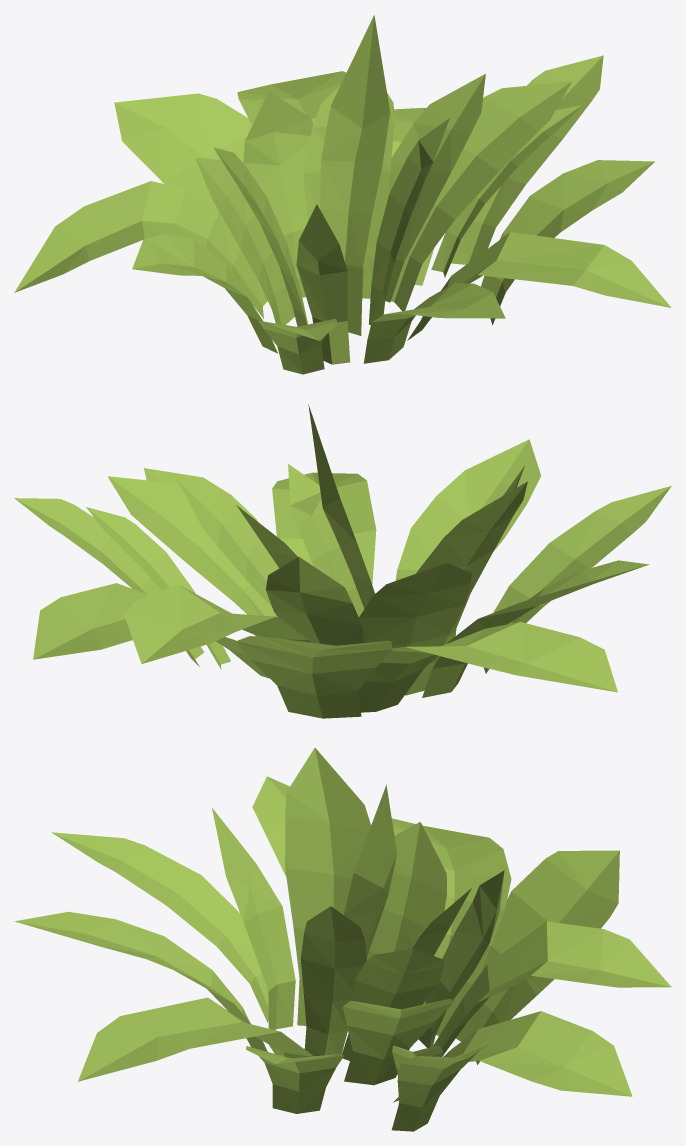
Rendered from Plant_16.fbx.
3 renders of one model, top to bottom at view 1: azimuth 30°, elevation 25°; view 2: azimuth 150°, elevation 25°; view 3: azimuth 270°, elevation 25°, orthographic. The views are drawn at different scales.
Parts seen in each view (by area): view 1: Plant_16; view 2: Plant_16; view 3: Plant_16.
Part boxes in pixels (bbox=[...]): Plant_16: bbox=[14, 15, 671, 374]; Plant_16: bbox=[14, 404, 671, 718]; Plant_16: bbox=[14, 748, 671, 1131].
Bounding box in the file's own units: 0.797 × 0.356 × 0.7248.
